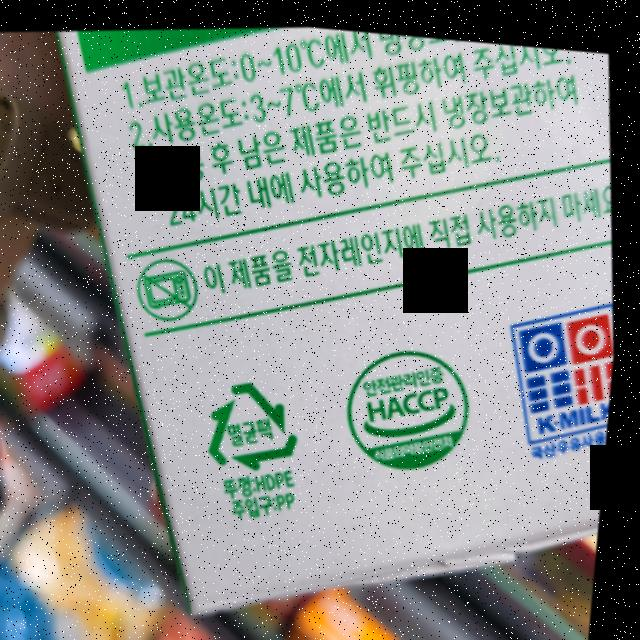SterilizedPack: (205, 363, 315, 472)
